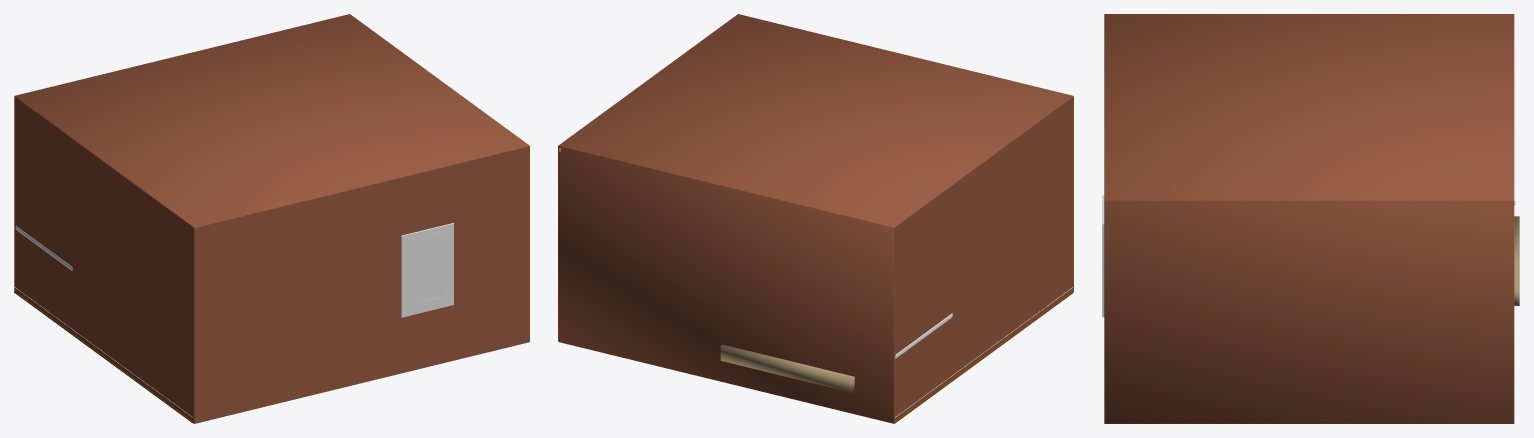
Rendered from cubohueco.glb.
3 views of the same model, side by side, from view 1: azimuth 30°, elevation 25°; view 2: azimuth 150°, elevation 25°; view 3: azimuth 270°, elevation 25° (orthographic). The views are drawn at different scales.
Visible parts, largest first — view 1: Cubo Base.001, Cubo Base, Mirror 170x100 Type-3 - Dream Land (obj); view 2: Cubo Base, Cubo Base.001, colchon; view 3: Cubo Base, Cubo Base.001, colchon.
Boxes of the visible parts, x1,y1,x2,y2 form: Cubo Base.001: [14, 96, 529, 423]; Cubo Base: [14, 14, 529, 227]; Mirror 170x100 Type-3 - Dream Land (obj): [401, 223, 453, 317]; Cubo Base: [558, 14, 1073, 423]; Cubo Base.001: [559, 96, 1073, 423]; colchon: [720, 344, 854, 392]; Cubo Base: [1104, 14, 1514, 423]; Cubo Base.001: [1104, 201, 1513, 423]; colchon: [1514, 216, 1519, 305].
Size of what is drawn, in the model's own units: 9.7 by 5.42 by 9.15.
71 materials, 12 textured.
